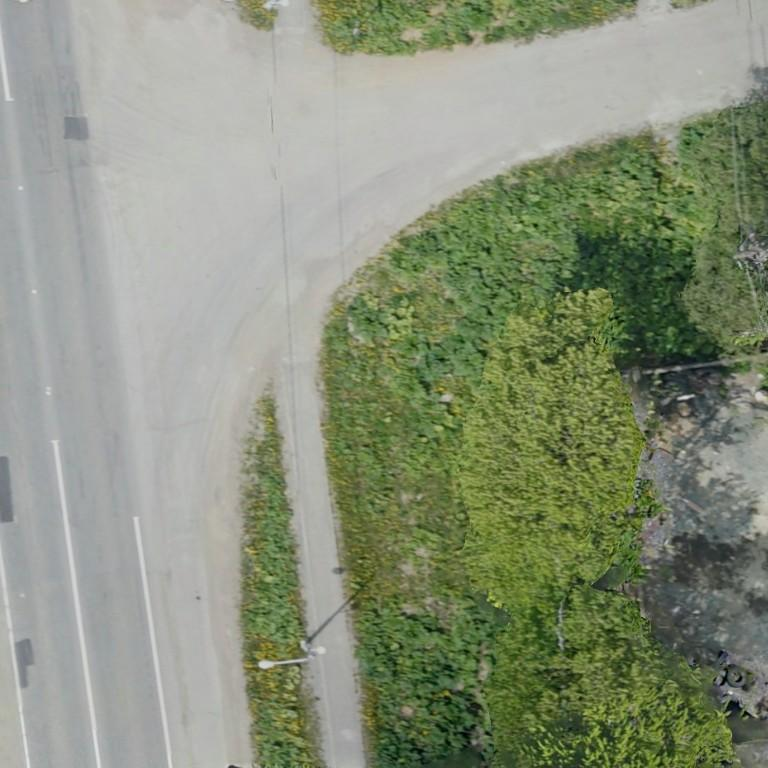hogweed: (399, 153, 691, 387), (356, 596, 494, 767)
